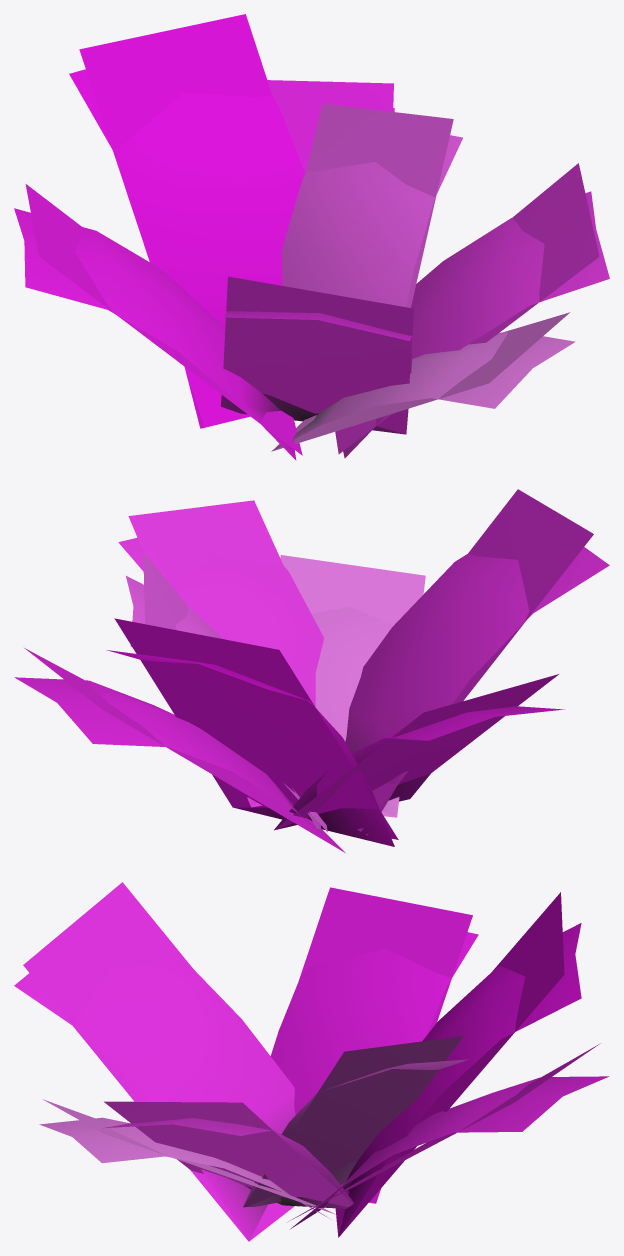
Rendered from fern_01_a.dae.
3 views of the same model, one above another, from view 1: azimuth 30°, elevation 25°; view 2: azimuth 150°, elevation 25°; view 3: azimuth 270°, elevation 25° (orthographic). The views are drawn at different scales.
Parts seen in each view (by area): view 1: fern200, fern4; view 2: fern4, fern200; view 3: fern200, fern4.
Part boxes in pixels (x1=…): fern200: x1=14, y1=69, x2=609, y2=460; fern4: x1=25, y1=14, x2=599, y2=455; fern4: x1=24, y1=489, x2=593, y2=852; fern200: x1=14, y1=537, x2=609, y2=846; fern200: x1=14, y1=923, x2=609, y2=1241; fern4: x1=23, y1=882, x2=600, y2=1241.
Bounding box in the file's own units: 1.23 × 1.33 × 0.6858.
